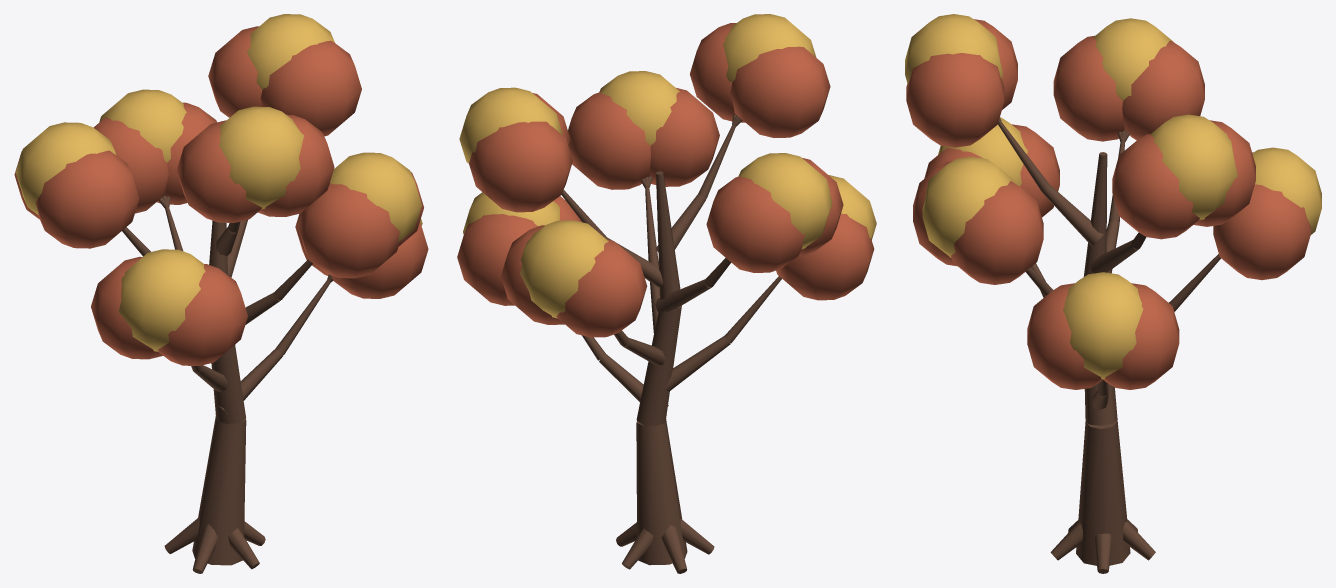
Rendered from almanac-gardens-golden-orchard-tree-afbd4689__22053.glb.
3 renders of one model, left to right at view 1: azimuth 30°, elevation 25°; view 2: azimuth 150°, elevation 25°; view 3: azimuth 270°, elevation 25°, orthographic. The views are drawn at different scales.
Visible parts, largest first — view 1: golden-orchard-tree-clay, golden-orchard-tree-gold, golden-orchard-tree-bark; view 2: golden-orchard-tree-clay, golden-orchard-tree-gold, golden-orchard-tree-bark; view 3: golden-orchard-tree-clay, golden-orchard-tree-gold, golden-orchard-tree-bark.
Boxes of the visible parts, bbox=[...] form: golden-orchard-tree-clay: bbox=[14, 26, 428, 365]; golden-orchard-tree-gold: bbox=[15, 14, 422, 351]; golden-orchard-tree-bark: bbox=[122, 195, 333, 573]; golden-orchard-tree-clay: bbox=[457, 23, 874, 337]; golden-orchard-tree-gold: bbox=[459, 14, 876, 318]; golden-orchard-tree-bark: bbox=[561, 115, 781, 573]; golden-orchard-tree-clay: bbox=[906, 19, 1310, 389]; golden-orchard-tree-gold: bbox=[905, 14, 1321, 379]; golden-orchard-tree-bark: bbox=[998, 118, 1220, 573].
Size of the model in its own units: 2.81 by 3.57 by 2.59.
